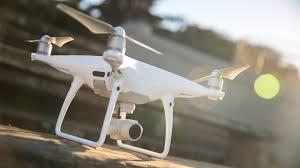drone: (21, 0, 252, 168)
